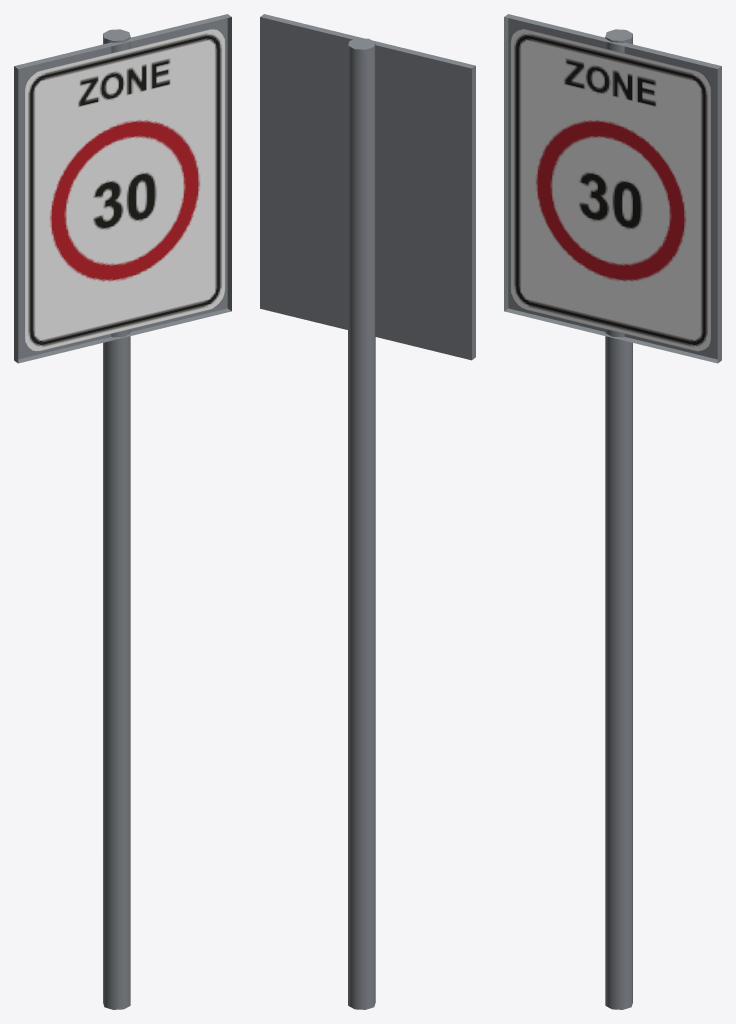
The model's file is road-sign-tall.obj.
3 renders of one model, left to right at view 1: azimuth 30°, elevation 25°; view 2: azimuth 150°, elevation 25°; view 3: azimuth 330°, elevation 25°, orthographic.
Visible parts, largest first — view 1: part2, part1; view 2: part2, part1; view 3: part2, part1.
Boxes of the visible parts, box(x1,y1,x2,y2) form: part2: box(14, 14, 231, 363); part1: box(103, 29, 130, 1009); part2: box(260, 14, 475, 360); part1: box(348, 38, 375, 1009); part2: box(504, 14, 721, 363); part1: box(605, 29, 632, 1009).
Bounding box in the file's own units: 0.6 × 2.6 × 0.075.
2 materials, 1 textured.
